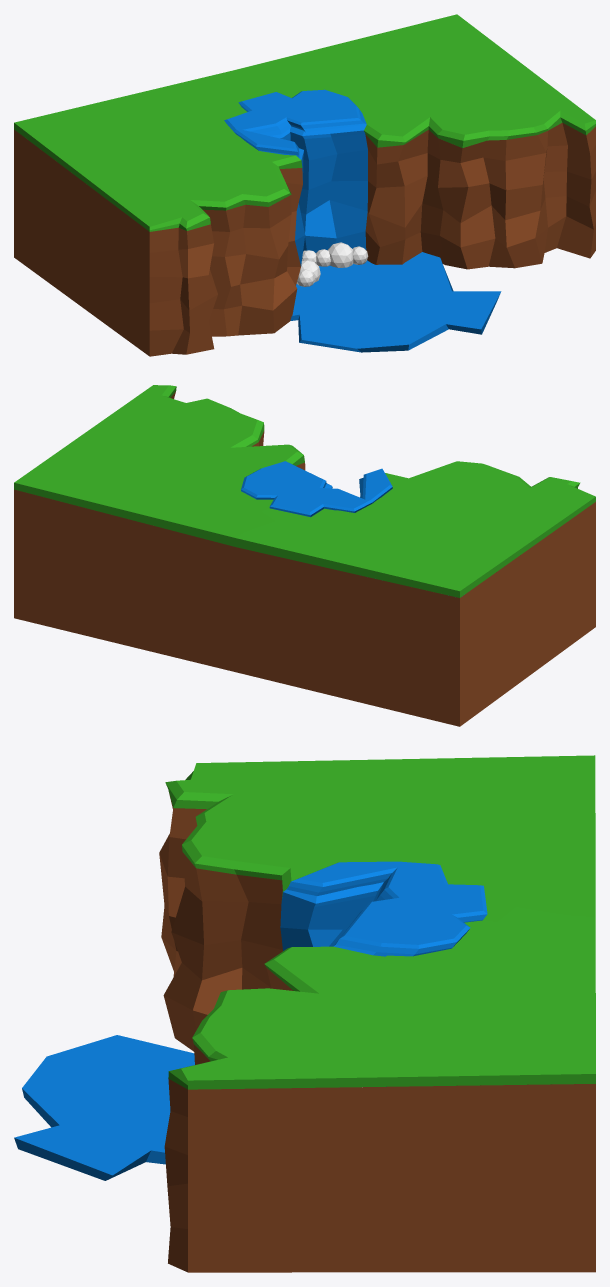
File: rocks4.glb
3 renders of one model, top to bottom at view 1: azimuth 30°, elevation 25°; view 2: azimuth 150°, elevation 25°; view 3: azimuth 270°, elevation 25°, orthographic. The views are drawn at different scales.
Parts seen in each view (by area): view 1: Icosphere.008; view 2: Icosphere.008; view 3: Icosphere.008.
Part boxes in pixels (x1,y1,x2,y2): Icosphere.008: [14, 14, 595, 356]; Icosphere.008: [14, 385, 595, 726]; Icosphere.008: [14, 755, 595, 1272].
Size of the model in its own units: 15.19 by 4.54 by 11.72.
